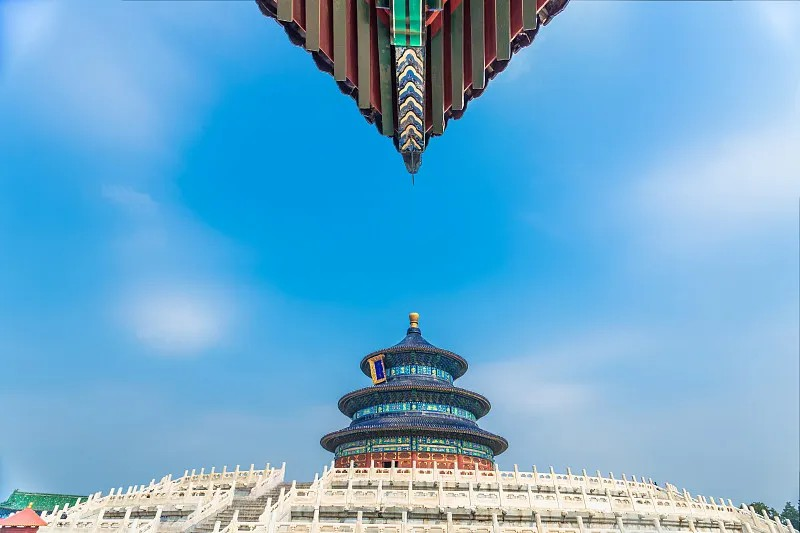Heaven: (317, 312, 510, 469)
